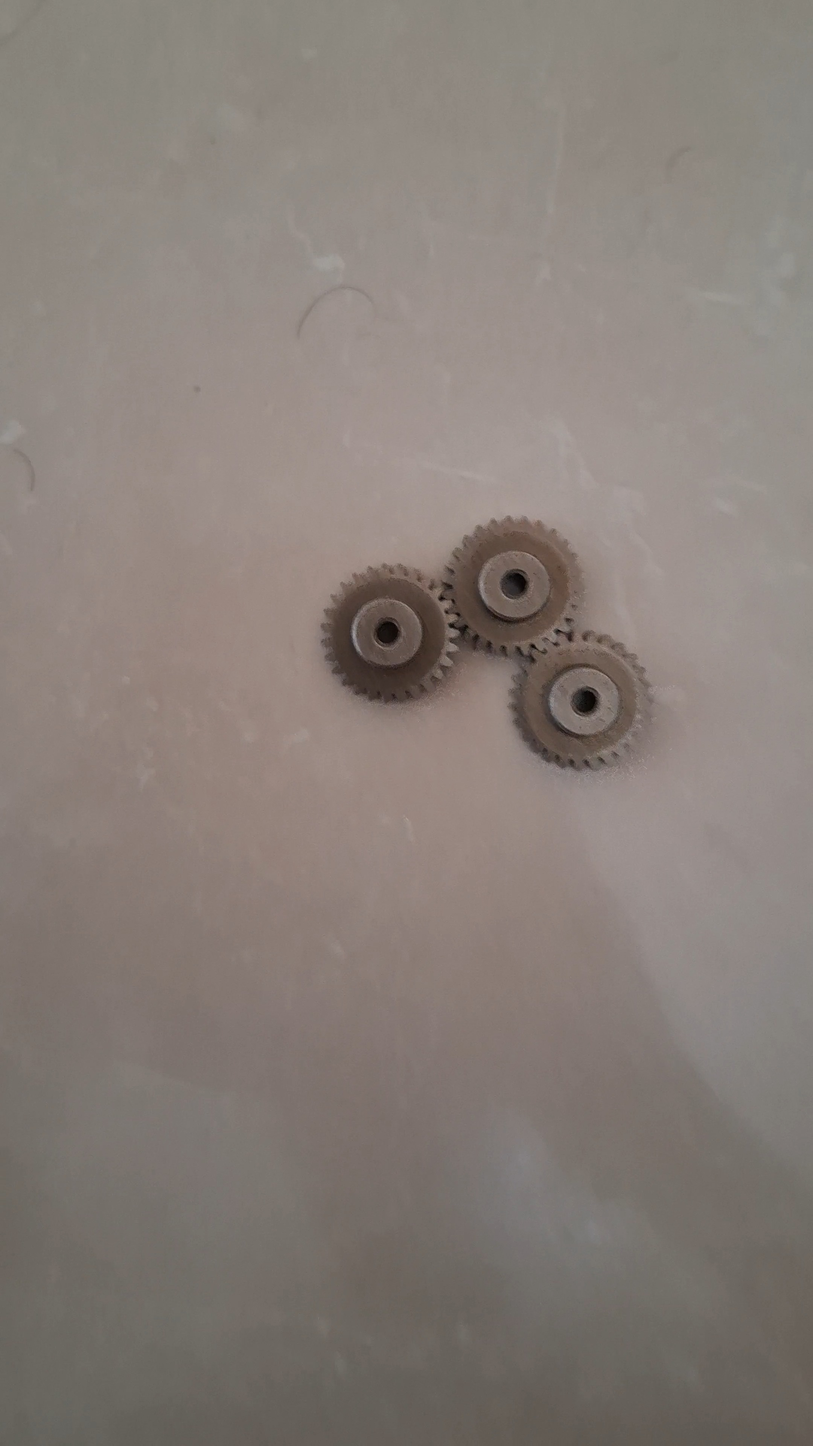spur gear: (445, 517, 582, 656), (513, 632, 651, 769), (323, 566, 458, 700)
